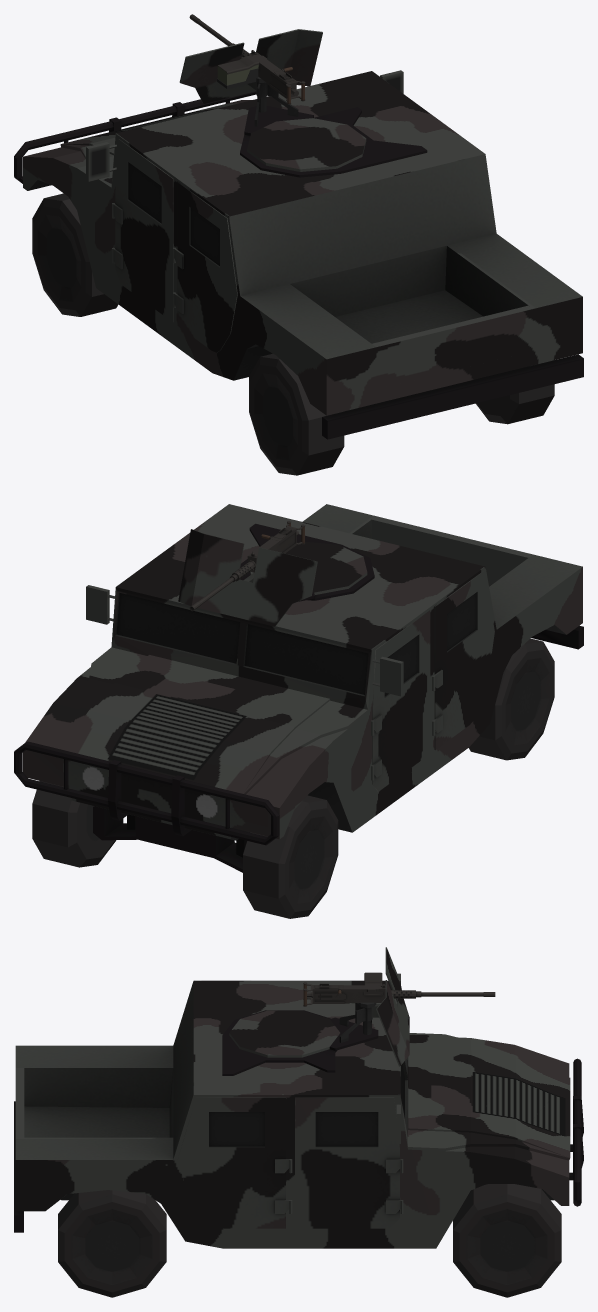
File: HMMWV_Gun_Truck.fbx
The picture shows the model from 3 angles, top to bottom: view 1: azimuth 30°, elevation 25°; view 2: azimuth 150°, elevation 25°; view 3: azimuth 270°, elevation 25°; orthographic projection. The views are drawn at different scales.
Parts seen in each view (by area): view 1: HMMWV_Body (×2), HMMWV_Door_Front_Left, HMMWV_Door_Rear_Left, HMMWV_Trunk_Lower, HMMWV_Wheel_Back_Left, HMMWV_Wheel_Front_Left, HMMWV_HMMWV_Gun_Shield, HMMWV_Turret_Ring, HMMWV_Turret_Cover_Left, HMMWV_Turret_Cover_right, HMMWV_Bumper, HMMWV_Wheel_Back_Right (+2 smaller); view 2: HMMWV_Body (×2), HMMWV_HMMWV_Gun_Shield, HMMWV_Wheel_Front_Left, HMMWV_Door_Rear_Left, HMMWV_Door_Front_Left, HMMWV_Bumper, HMMWV_Wheel_Back_Left, HMMWV_Wheel_Front_Right, HMMWV_Trunk_Lower, HMMWV_Axle_Front, HMMWV_Turret_Cover_Left, HMMWV_Turret_Ring (+3 smaller); view 3: HMMWV_Body (×2), HMMWV_Door_Front_Right, HMMWV_Door_Rear_Right, HMMWV_Wheel_Front_Right, HMMWV_Wheel_Back_Right, HMMWV_Turret_Ring, HMMWV_Turret_Cover_right, HMMWV_HMMWV_Gun_Shield, HMMWV_Turret_Cover_Left, HMMWV_Bumper, HMMWV_Gun_Mount, HMMWV_Trunk_Lower.
Boxes of the visible parts, bbox=[...] form: HMMWV_Body (×2): bbox=[23, 14, 583, 439]; HMMWV_Door_Front_Left: bbox=[112, 139, 173, 321]; HMMWV_Door_Rear_Left: bbox=[173, 182, 237, 352]; HMMWV_Trunk_Lower: bbox=[372, 305, 533, 389]; HMMWV_Wheel_Back_Left: bbox=[249, 353, 344, 475]; HMMWV_Wheel_Front_Left: bbox=[32, 193, 118, 316]; HMMWV_HMMWV_Gun_Shield: bbox=[179, 29, 322, 103]; HMMWV_Turret_Ring: bbox=[240, 106, 427, 177]; HMMWV_Turret_Cover_Left: bbox=[247, 121, 337, 171]; HMMWV_Turret_Cover_right: bbox=[276, 118, 366, 168]; HMMWV_Bumper: bbox=[14, 91, 256, 183]; HMMWV_Wheel_Back_Right: bbox=[475, 384, 554, 424]; HMMWV_Body (×2): bbox=[23, 504, 583, 840]; HMMWV_HMMWV_Gun_Shield: bbox=[178, 529, 317, 626]; HMMWV_Wheel_Front_Left: bbox=[243, 795, 338, 918]; HMMWV_Door_Rear_Left: bbox=[432, 570, 494, 749]; HMMWV_Door_Front_Left: bbox=[371, 610, 430, 791]; HMMWV_Bumper: bbox=[14, 741, 279, 845]; HMMWV_Wheel_Back_Left: bbox=[469, 638, 554, 760]; HMMWV_Wheel_Front_Right: bbox=[32, 781, 116, 867]; HMMWV_Trunk_Lower: bbox=[371, 516, 532, 586]; HMMWV_Axle_Front: bbox=[93, 806, 249, 872]; HMMWV_Turret_Cover_Left: bbox=[312, 544, 367, 594]; HMMWV_Turret_Ring: bbox=[240, 523, 374, 601]; HMMWV_Body (×2): bbox=[14, 980, 570, 1248]; HMMWV_Door_Front_Right: bbox=[295, 1097, 403, 1228]; HMMWV_Door_Rear_Right: bbox=[177, 1097, 292, 1228]; HMMWV_Wheel_Front_Right: bbox=[453, 1184, 561, 1297]; HMMWV_Wheel_Back_Right: bbox=[58, 1190, 166, 1297]; HMMWV_Turret_Ring: bbox=[222, 1010, 378, 1075]; HMMWV_Turret_Cover_right: bbox=[229, 1033, 339, 1057]; HMMWV_HMMWV_Gun_Shield: bbox=[371, 947, 409, 1066]; HMMWV_Turret_Cover_Left: bbox=[229, 1010, 339, 1032]; HMMWV_Bumper: bbox=[569, 1058, 583, 1206]; HMMWV_Gun_Mount: bbox=[339, 1002, 376, 1042]; HMMWV_Trunk_Lower: bbox=[15, 1068, 24, 1137].
Size of the model in its own units: 9.74 by 8.64 by 16.74.
